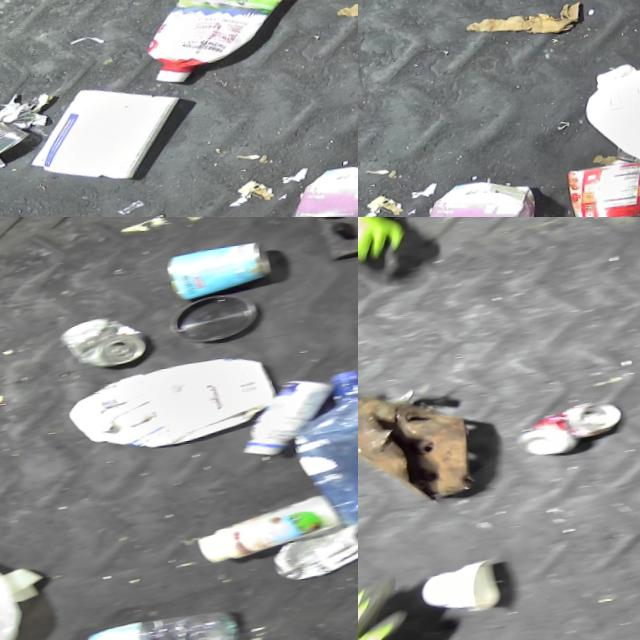can: (513, 400, 626, 464), (162, 243, 274, 307), (56, 312, 151, 377), (271, 521, 358, 589), (564, 163, 640, 217), (0, 95, 36, 175)
milk_jug: (65, 353, 282, 464), (580, 57, 640, 186), (0, 544, 32, 640)
non_white_jug: (140, 0, 304, 89), (389, 178, 552, 217), (260, 163, 358, 217)
plastic_bottle: (57, 606, 247, 640)
